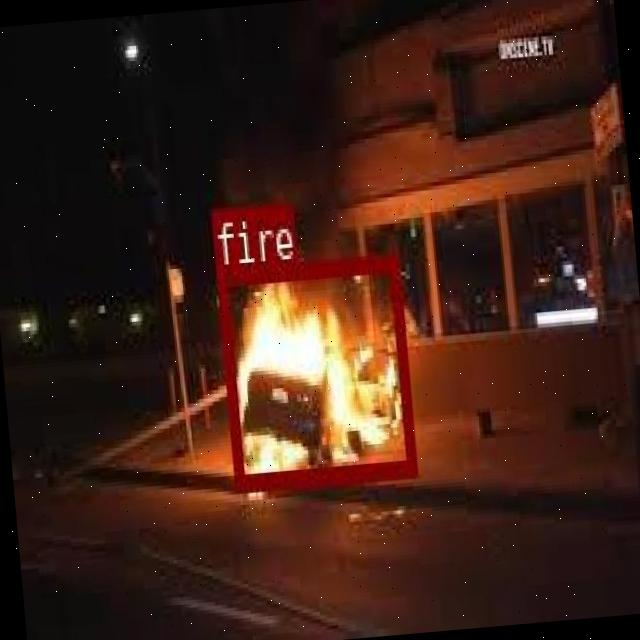fire: (214, 250, 415, 489)
